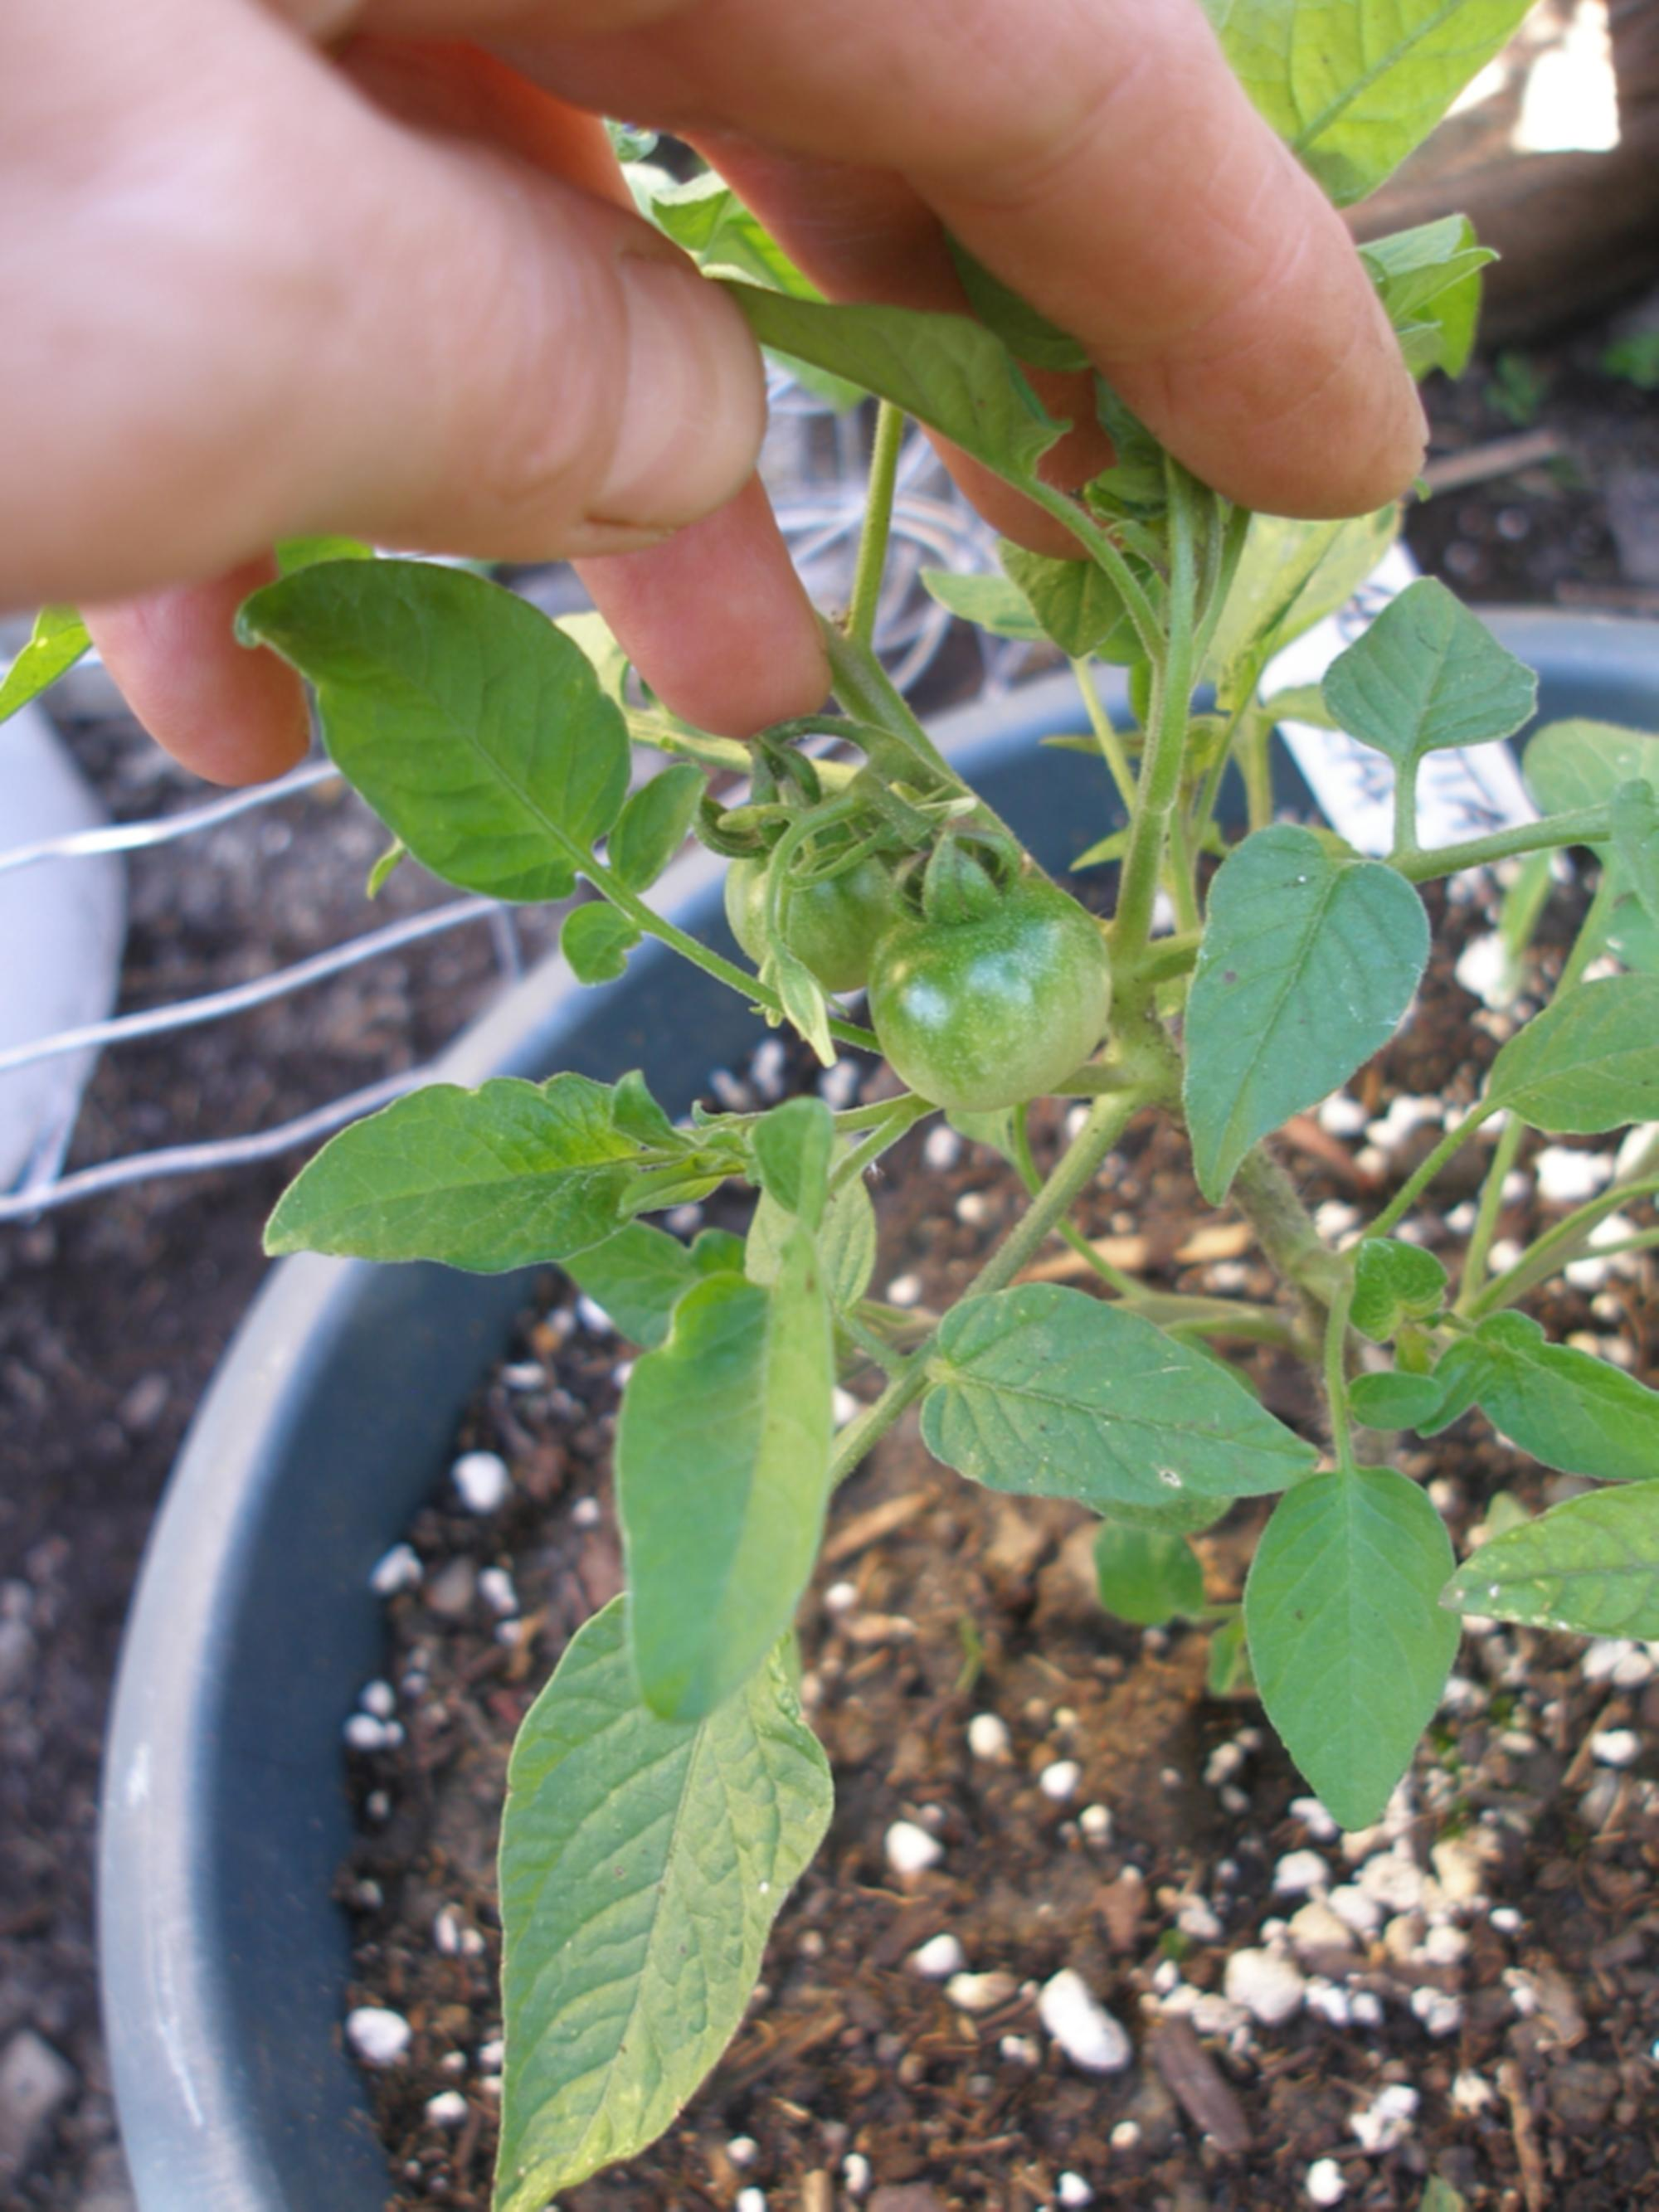Tomato leaf: (427, 1557, 934, 2212), (223, 519, 676, 977), (877, 1258, 1328, 1575), (197, 996, 599, 1338), (1122, 820, 1474, 1167), (1211, 1440, 1493, 1871), (605, 1264, 831, 1763), (1382, 1277, 1659, 1500)
